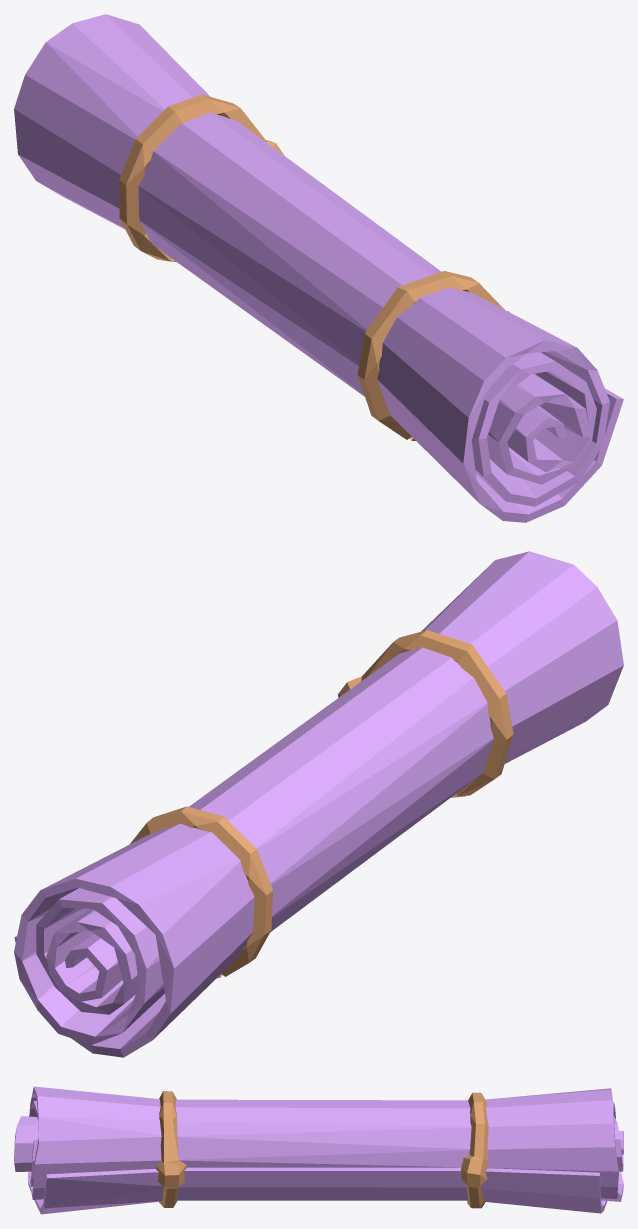
Rendered from Cloth 08.fbx.
3 views of the same model, one above another, from view 1: azimuth 30°, elevation 25°; view 2: azimuth 150°, elevation 25°; view 3: azimuth 270°, elevation 25° (orthographic). The views are drawn at different scales.
Parts seen in each view (by area): view 1: Cloth 08; view 2: Cloth 08; view 3: Cloth 08.
Boxes of the visible parts, x1=… form: Cloth 08: x1=14, y1=14, x2=623, y2=522; Cloth 08: x1=14, y1=551, x2=623, y2=1057; Cloth 08: x1=14, y1=1086, x2=623, y2=1214.
Size of the model in its own units: 43.39 by 42.67 by 204.
